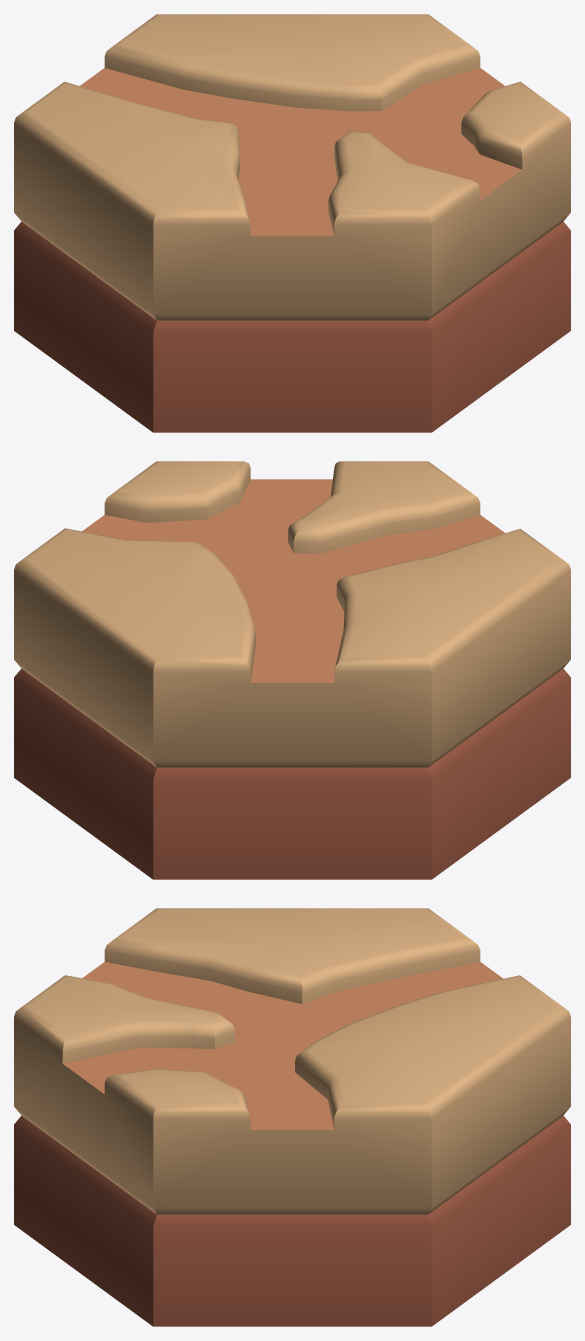
The model's file is hex_sand_roadI_detail.glb.
The picture shows the model from 3 angles, top to bottom: view 1: azimuth 30°, elevation 25°; view 2: azimuth 150°, elevation 25°; view 3: azimuth 270°, elevation 25°; orthographic projection.
Visible parts, largest first — view 1: hex_sand_roadI_detail; view 2: hex_sand_roadI_detail; view 3: hex_sand_roadI_detail.
Part boxes in pixels (x1=…): hex_sand_roadI_detail: x1=14, y1=14, x2=570, y2=432; hex_sand_roadI_detail: x1=14, y1=461, x2=570, y2=879; hex_sand_roadI_detail: x1=14, y1=908, x2=570, y2=1326.
Bounding box in the file's own units: 2.4 × 1.2 × 2.77.
